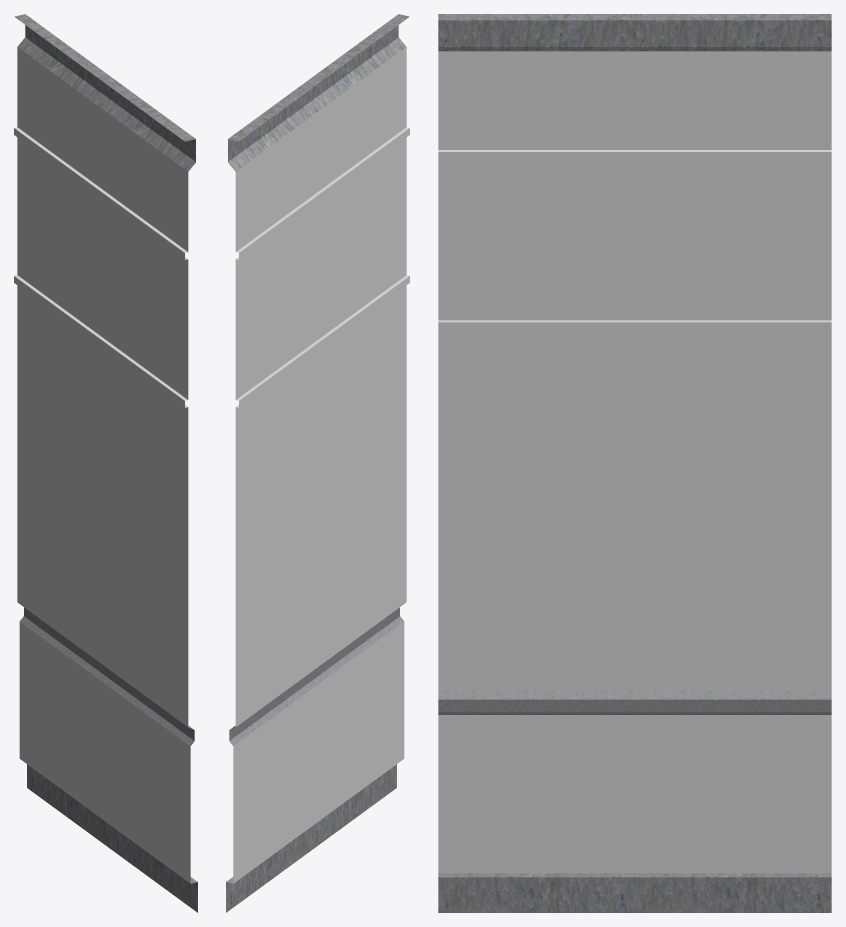
The model's file is P_Wall.fbx.
The picture shows the model from 3 angles, left to right: view 1: azimuth 30°, elevation 25°; view 2: azimuth 150°, elevation 25°; view 3: azimuth 270°, elevation 25°; orthographic projection. The views are drawn at different scales.
Parts seen in each view (by area): view 1: P_Doorway.006; view 2: P_Doorway.006; view 3: P_Doorway.006.
Boxes of the visible parts, x1,y1,x2,y2 form: P_Doorway.006: (14,14,197,912); P_Doorway.006: (226,14,409,912); P_Doorway.006: (438,14,831,912).
Size of the model in its own units: 17.54 by 1000 by 400.
